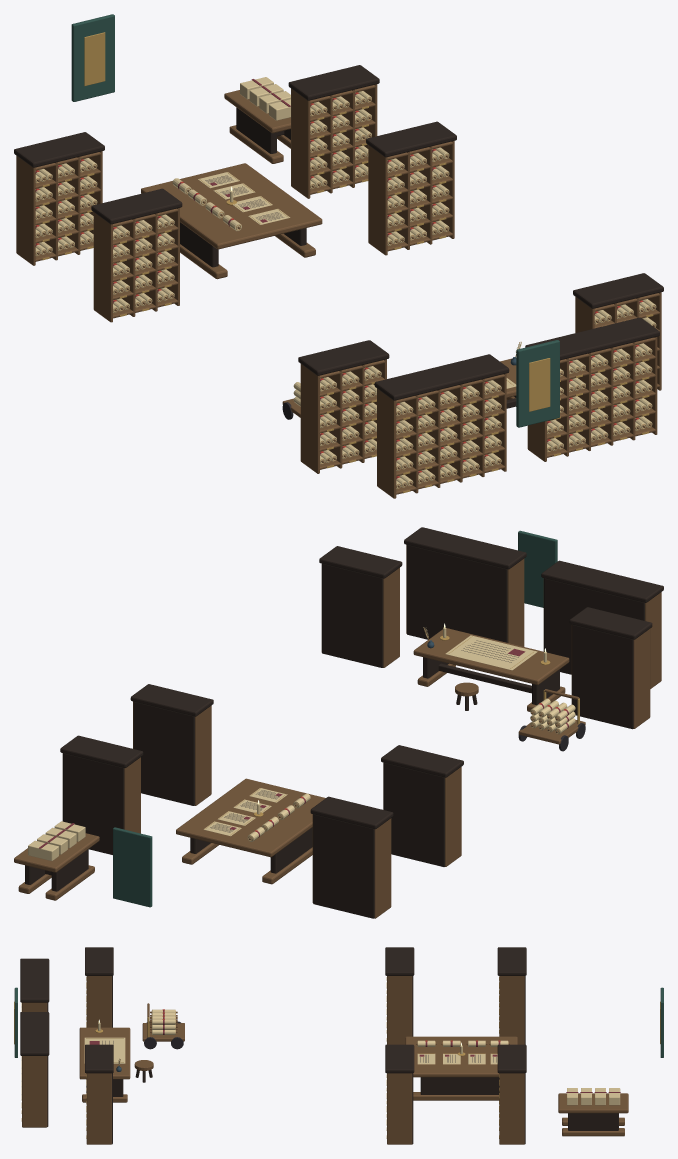
Rendered from archives.glb.
3 renders of one model, top to bottom at view 1: azimuth 30°, elevation 25°; view 2: azimuth 150°, elevation 25°; view 3: azimuth 270°, elevation 25°, orthographic. The views are drawn at different scales.
Visible parts, largest first — view 1: Crafted assembly 002, Crafted assembly 008, Crafted assembly 001, Crafted assembly 013, Crafted assembly 000, Crafted assembly 019, Crafted assembly 012, Crafted assembly 003, Crafted assembly 009, Crafted assembly 014, Crafted assembly 004, Crafted assembly 011 (+1 smaller); view 2: Crafted assembly 013, Crafted assembly 000, Crafted assembly 002, Crafted assembly 008, Crafted assembly 001, Crafted assembly 019, Crafted assembly 015; view 3: Crafted assembly 002, Crafted assembly 013, Crafted assembly 014, Crafted assembly 008, Crafted assembly 000, Crafted assembly 019, Crafted assembly 012, Crafted assembly 015.
Boxes of the visible parts, bbox=[...] form: Crafted assembly 002: bbox=[66, 85, 659, 494]; Crafted assembly 008: bbox=[60, 77, 656, 489]; Crafted assembly 001: bbox=[16, 152, 396, 498]; Crafted assembly 013: bbox=[180, 65, 663, 408]; Crafted assembly 000: bbox=[14, 132, 389, 375]; Crafted assembly 019: bbox=[71, 14, 559, 427]; Crafted assembly 012: bbox=[84, 32, 653, 493]; Crafted assembly 003: bbox=[35, 165, 353, 464]; Crafted assembly 009: bbox=[70, 97, 655, 486]; Crafted assembly 014: bbox=[363, 84, 661, 390]; Crafted assembly 004: bbox=[35, 171, 400, 488]; Crafted assembly 011: bbox=[80, 92, 642, 477]; Crafted assembly 013: bbox=[25, 527, 663, 891]; Crafted assembly 000: bbox=[310, 607, 652, 918]; Crafted assembly 002: bbox=[14, 544, 585, 902]; Crafted assembly 008: bbox=[28, 627, 575, 860]; Crafted assembly 001: bbox=[374, 592, 661, 918]; Crafted assembly 019: bbox=[113, 530, 557, 907]; Crafted assembly 015: bbox=[210, 640, 526, 832]; Crafted assembly 002: bbox=[22, 976, 628, 1136]; Crafted assembly 013: bbox=[20, 958, 618, 1144]; Crafted assembly 014: bbox=[86, 1073, 524, 1144]; Crafted assembly 008: bbox=[84, 1009, 620, 1105]; Crafted assembly 000: bbox=[85, 947, 526, 1044]; Crafted assembly 019: bbox=[14, 987, 663, 1057]; Crafted assembly 012: bbox=[14, 985, 660, 1138]; Crafted assembly 015: bbox=[102, 1037, 496, 1062].
Size of what is drawn, in the model's own units: 10.36 by 3.5 by 23.15.
